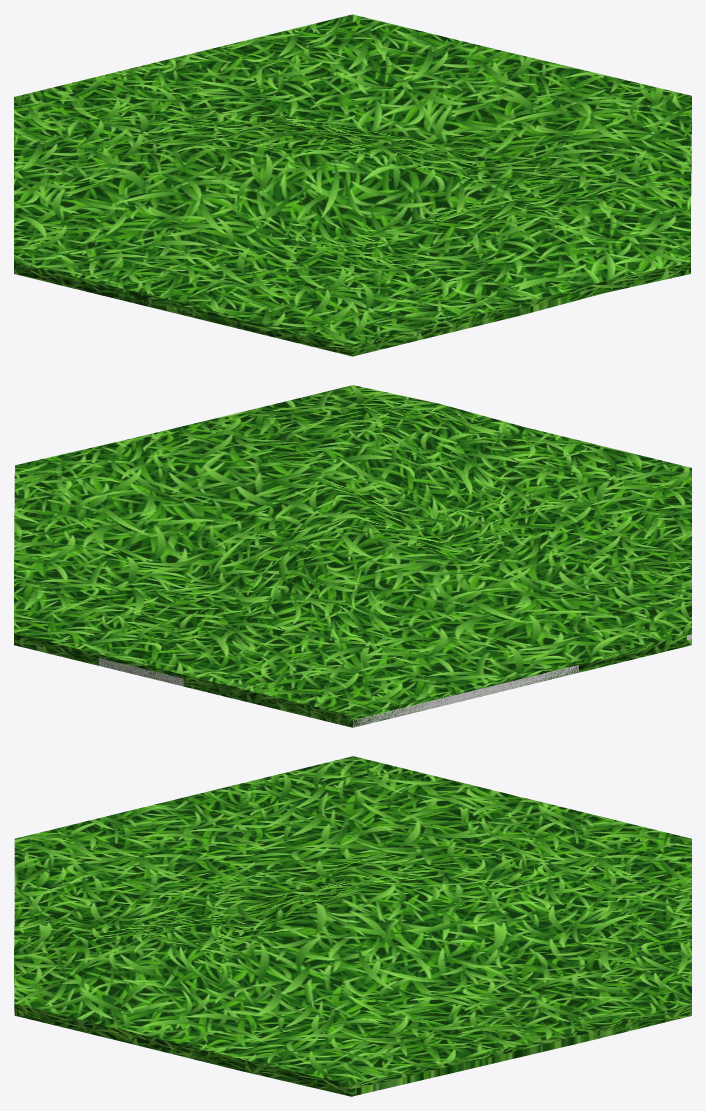
Rendered from grass-hex-rough.glb.
The picture shows the model from 3 angles, top to bottom: view 1: azimuth 30°, elevation 25°; view 2: azimuth 150°, elevation 25°; view 3: azimuth 270°, elevation 25°; orthographic projection.
Parts seen in each view (by area): view 1: optimized; view 2: optimized; view 3: optimized.
Boxes of the visible parts, x1=… form: optimized: x1=14, y1=14, x2=691, y2=356; optimized: x1=14, y1=385, x2=691, y2=727; optimized: x1=14, y1=756, x2=691, y2=1096.
Size of the model in its own units: 4.5 by 0.3232 by 3.9.
Materials: 2 (1 with a texture image).
